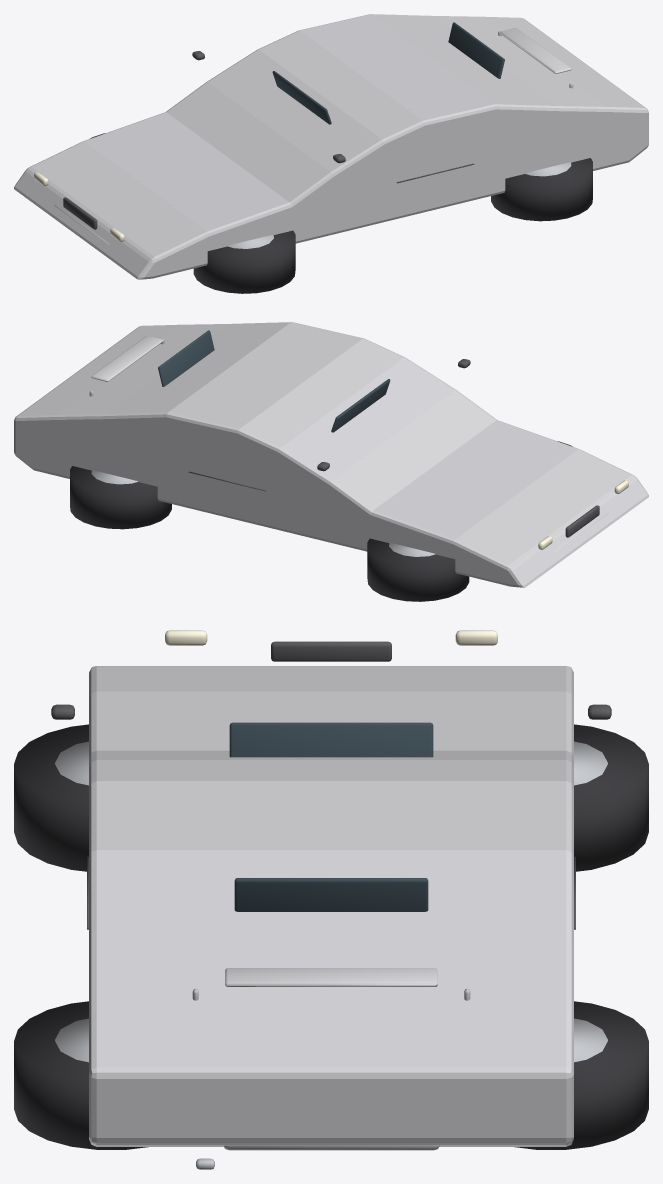
File: sport.glb
3 renders of one model, top to bottom at view 1: azimuth 30°, elevation 25°; view 2: azimuth 150°, elevation 25°; view 3: azimuth 270°, elevation 25°, orthographic. The views are drawn at different scales.
Visible parts, largest first — view 1: body_main, wheel_front_r, wheel_rear_r, glass_rear, body_spoiler, glass_windshield, trim_grille; view 2: body_main, wheel_front_l, wheel_rear_l, glass_rear, body_spoiler, glass_windshield, trim_grille; view 3: body_main, wheel_rear_l, wheel_rear_r, wheel_front_l, wheel_front_r, glass_windshield, glass_rear, body_spoiler, trim_grille, body_bumper_rear, trim_rim__rear_l, trim_rim__rear_r (+2 smaller).
Part boxes in pixels (x1=…): body_main: x1=14, y1=14, x2=648, y2=279; wheel_front_r: x1=193, y1=230, x2=295, y2=293; wheel_rear_r: x1=491, y1=158, x2=592, y2=221; glass_rear: x1=448, y1=22, x2=504, y2=78; body_spoiler: x1=500, y1=28, x2=571, y2=73; glass_windshield: x1=272, y1=71, x2=331, y2=124; trim_grille: x1=63, y1=197, x2=97, y2=229; body_main: x1=14, y1=322, x2=648, y2=587; wheel_front_l: x1=367, y1=538, x2=469, y2=601; wheel_rear_l: x1=70, y1=466, x2=171, y2=529; glass_rear: x1=158, y1=330, x2=214, y2=386; body_spoiler: x1=91, y1=336, x2=162, y2=381; glass_windshield: x1=331, y1=379, x2=390, y2=432; trim_grille: x1=565, y1=505, x2=599, y2=537; body_main: x1=89, y1=666, x2=573, y2=1146; wheel_rear_l: x1=514, y1=1001, x2=648, y2=1149; wheel_rear_r: x1=14, y1=1001, x2=148, y2=1149; wheel_front_l: x1=574, y1=724, x2=648, y2=871; wheel_front_r: x1=14, y1=724, x2=88, y2=871; glass_windshield: x1=229, y1=722, x2=433, y2=757; glass_rear: x1=234, y1=878, x2=428, y2=911; body_spoiler: x1=225, y1=968, x2=437, y2=986; trim_grille: x1=271, y1=641, x2=391, y2=661; body_bumper_rear: x1=223, y1=1145, x2=439, y2=1150; trim_rim__rear_l: x1=574, y1=1018, x2=607, y2=1062; trim_rim__rear_r: x1=55, y1=1018, x2=88, y2=1062.
Bounding box in the file's own units: 4.84 × 1.06 × 2.7.
